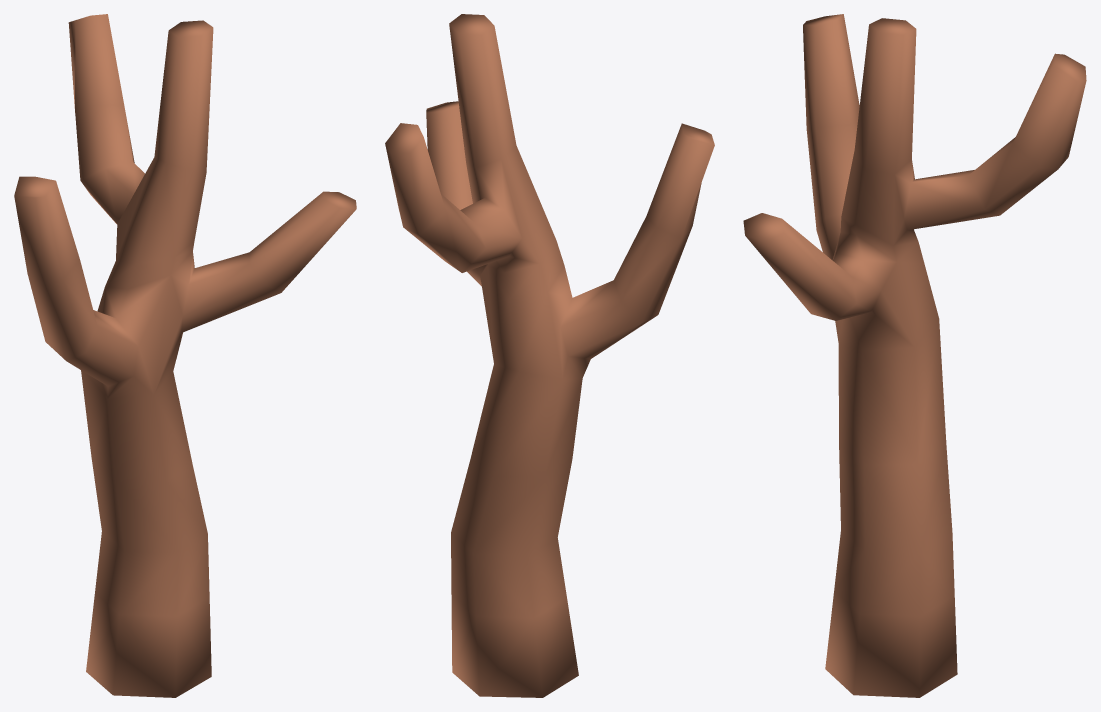
The model's file is Tree_Btm_A_03_LOD2.gltf.
3 views of the same model, side by side, from view 1: azimuth 30°, elevation 25°; view 2: azimuth 150°, elevation 25°; view 3: azimuth 270°, elevation 25° (orthographic). The views are drawn at different scales.
Visible parts, largest first — view 1: Tree_Btm_A_03_LOD2_Cylinder.740; view 2: Tree_Btm_A_03_LOD2_Cylinder.740; view 3: Tree_Btm_A_03_LOD2_Cylinder.740.
Part boxes in pixels (x1=…): Tree_Btm_A_03_LOD2_Cylinder.740: x1=14, y1=14, x2=356, y2=697; Tree_Btm_A_03_LOD2_Cylinder.740: x1=385, y1=14, x2=714, y2=697; Tree_Btm_A_03_LOD2_Cylinder.740: x1=743, y1=14, x2=1086, y2=697.
Size of the model in its own units: 4.6 by 8.93 by 4.14.
1 material, 1 textured.
